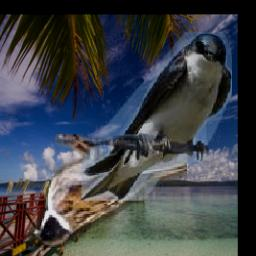Sparrow: (30, 135, 188, 249)
Swallow: (82, 33, 233, 202)
